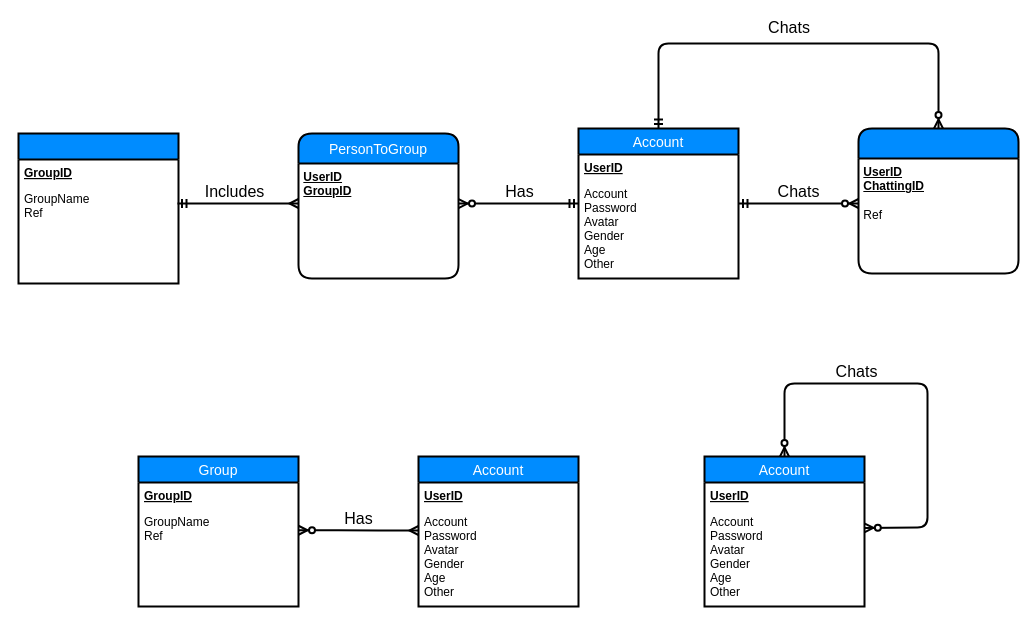
Image size: 1036x626. Some labels were removed from this diagram. Here are the shapes that lost their labels. From the top down, the box of each, then its label:
(17, 132, 179, 284): ChatGroup
(857, 127, 1019, 274): PersonalHistory
